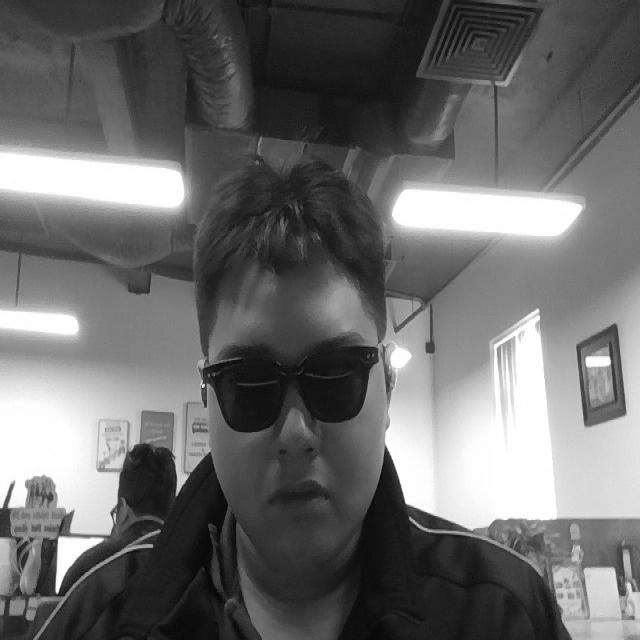fake: (199, 342, 388, 433)
real: (203, 177, 393, 573)
